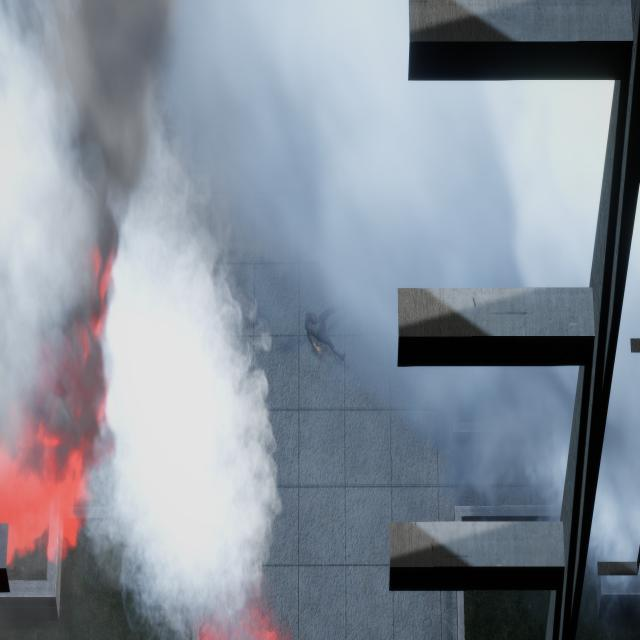Human: (290, 278, 356, 374)
